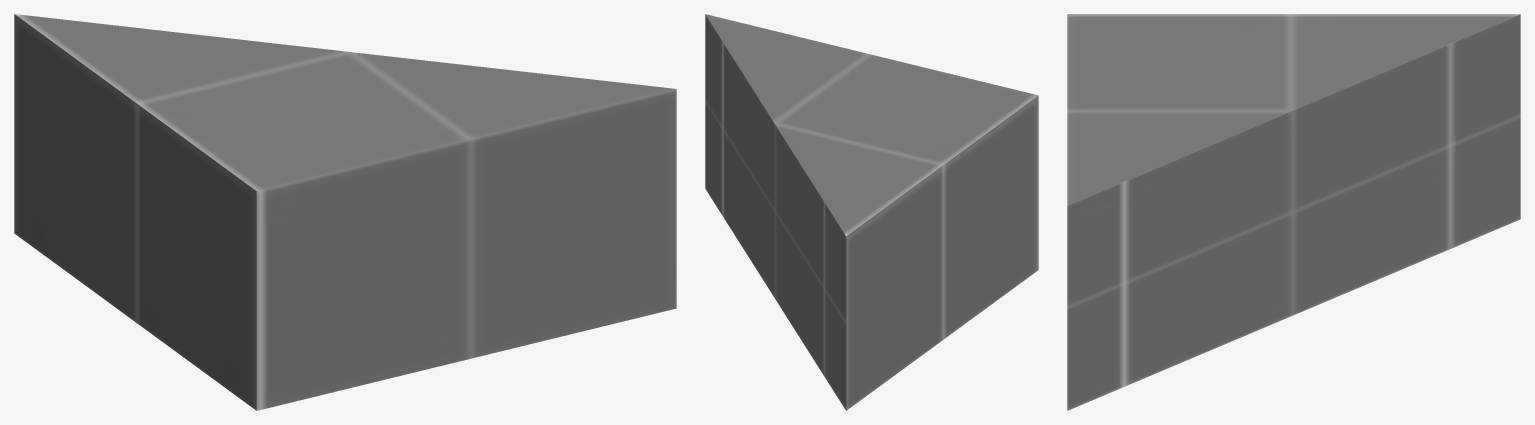
Rendered from BlockCorner_A.fbx.
The picture shows the model from 3 angles, left to right: view 1: azimuth 30°, elevation 25°; view 2: azimuth 150°, elevation 25°; view 3: azimuth 270°, elevation 25°; orthographic projection. The views are drawn at different scales.
Parts seen in each view (by area): view 1: Plateforme06; view 2: Plateforme06; view 3: Plateforme06.
Boxes of the visible parts, left/top/right/bottom form: Plateforme06: left=14, top=14, right=676, bottom=410; Plateforme06: left=705, top=14, right=1038, bottom=410; Plateforme06: left=1067, top=14, right=1520, bottom=410.
Bounding box in the file's own units: 8 × 8 × 4.
Materials: 1 (1 with a texture image).
